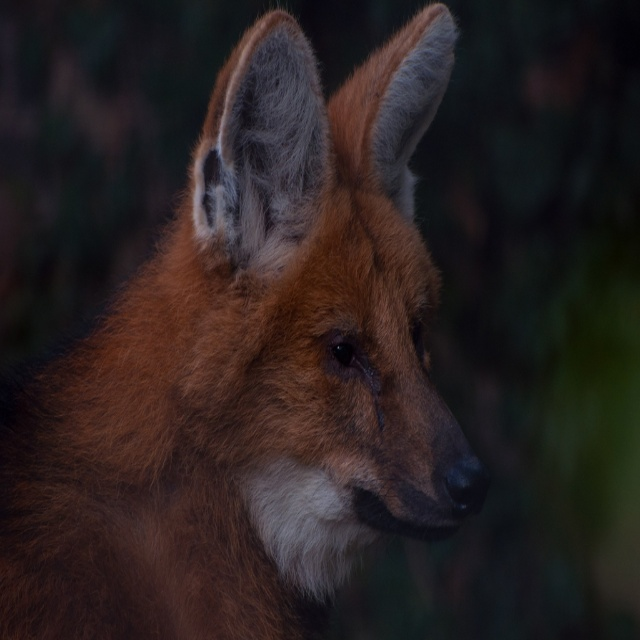Fox: (0, 0, 491, 639)
